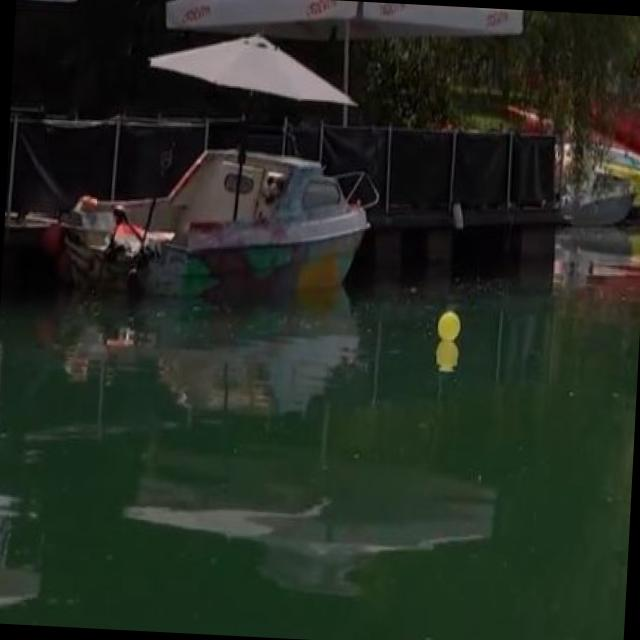boat: (52, 140, 394, 311)
